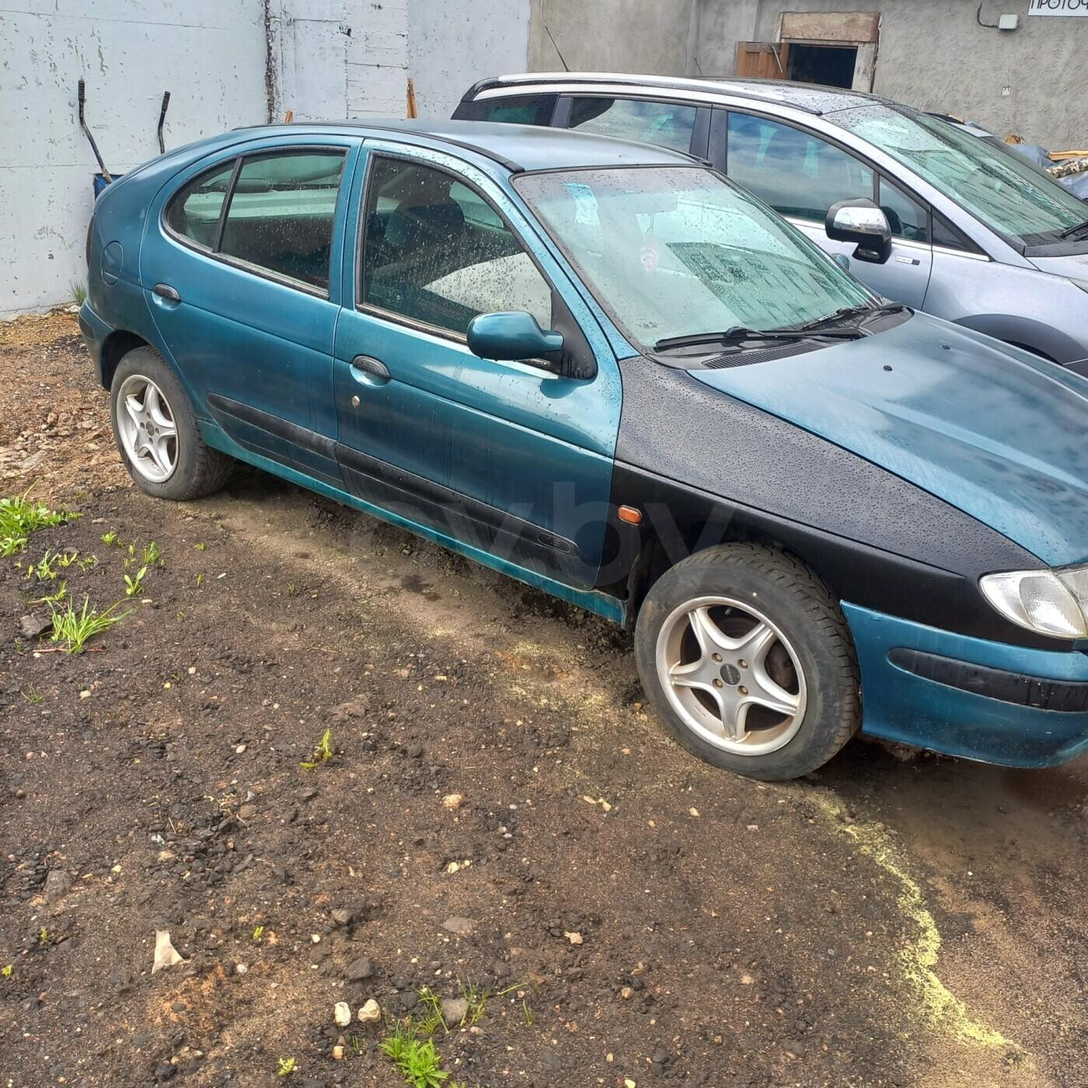Megane_1995-1999: (59, 123, 1088, 816)
